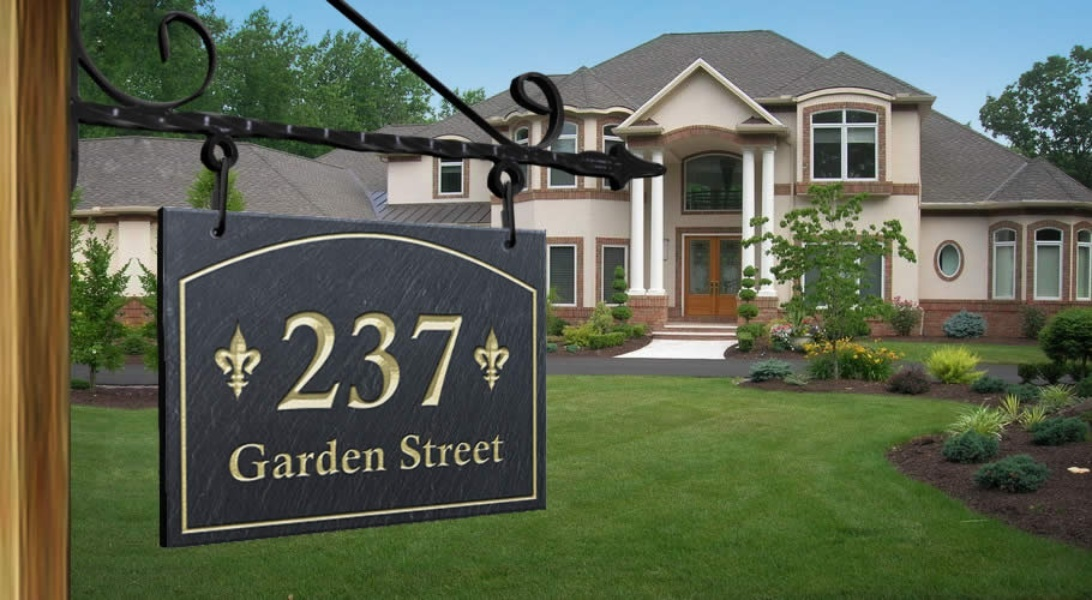text: (289, 310, 304, 411), (305, 310, 320, 411), (321, 310, 336, 411), (337, 310, 352, 411), (353, 310, 368, 411), (369, 310, 384, 411), (385, 310, 400, 411), (401, 310, 416, 411), (417, 310, 432, 411), (433, 310, 448, 411), (449, 310, 464, 411), (277, 310, 288, 411), (241, 436, 256, 484), (257, 436, 272, 484), (273, 436, 288, 484), (289, 436, 304, 484), (305, 436, 320, 484), (321, 436, 336, 484), (337, 436, 352, 484), (353, 436, 368, 484), (369, 436, 384, 484), (401, 434, 416, 471), (417, 434, 432, 471), (433, 434, 448, 471), (449, 434, 464, 471), (465, 434, 480, 471), (481, 434, 496, 471), (229, 436, 240, 484), (497, 434, 505, 471), (465, 310, 466, 411), (385, 436, 386, 484)
